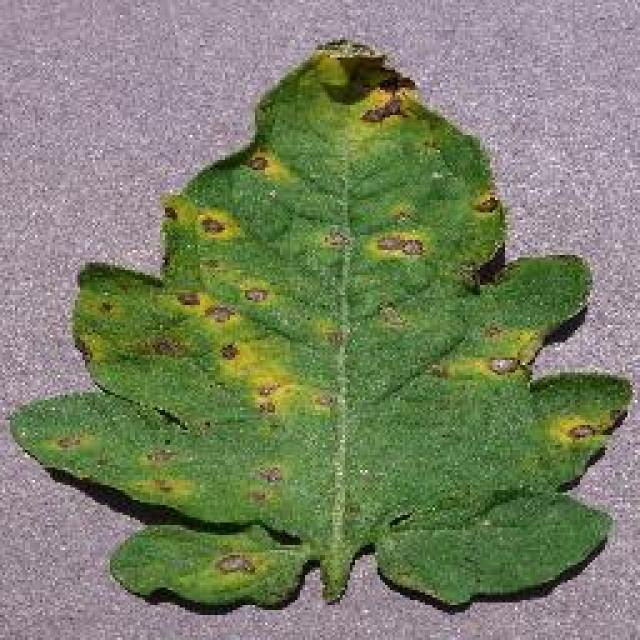Tomato___Septoria_leaf_spot: (10, 40, 630, 608)
